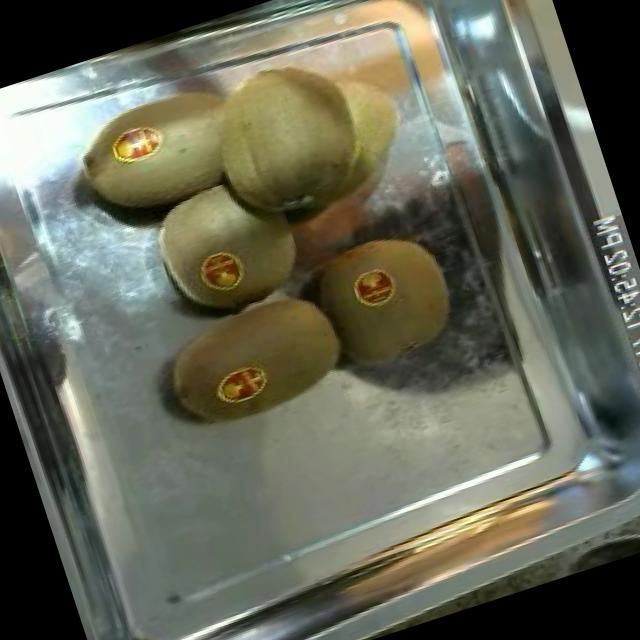Fruit: (170, 3, 422, 249), (142, 264, 362, 442), (134, 163, 325, 336), (309, 205, 482, 386), (96, 107, 182, 177)
